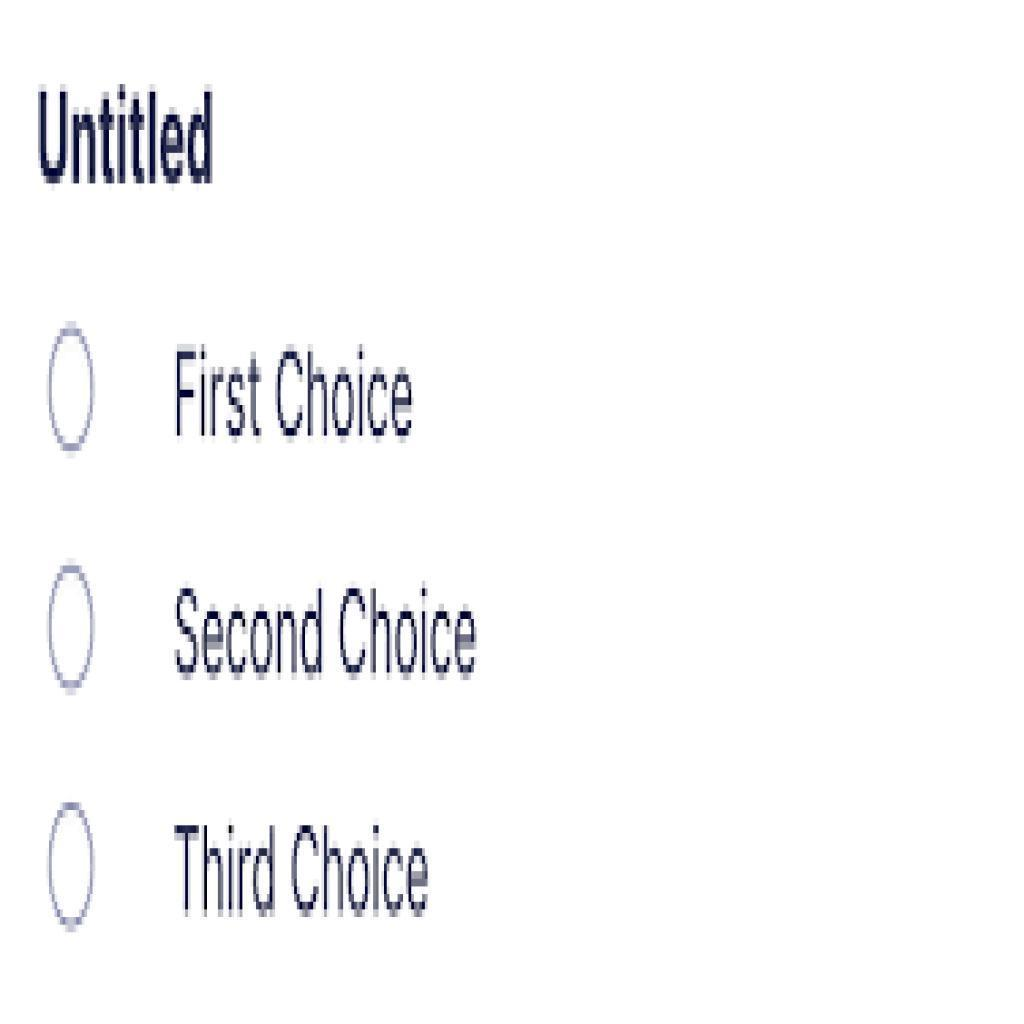label: (162, 569, 480, 696), (170, 805, 436, 936), (167, 329, 420, 450), (32, 69, 227, 189)
radio: (44, 792, 104, 941), (42, 558, 107, 694), (46, 315, 100, 463)
